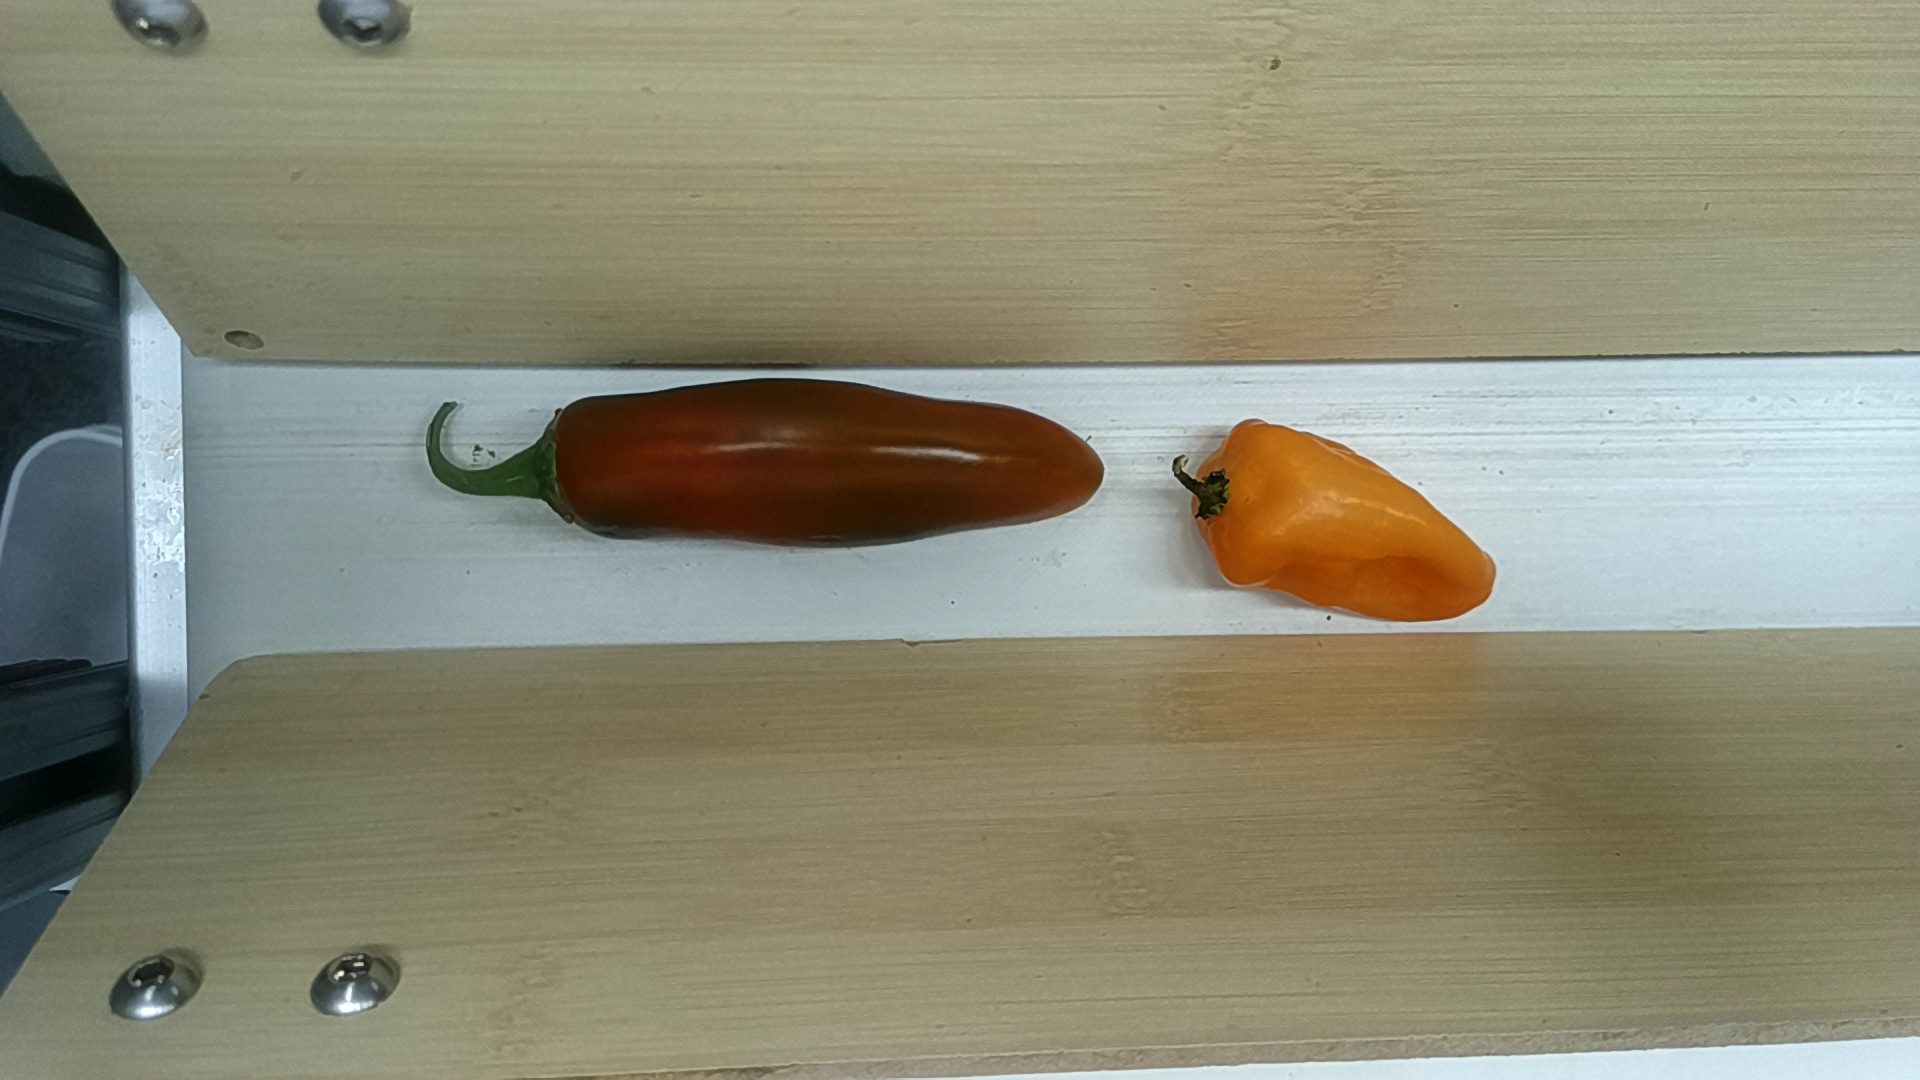Cut Point: (529, 392, 593, 541), (1199, 415, 1251, 593)
